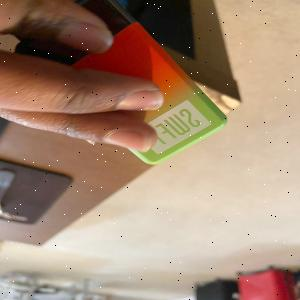Swift-E-Ciggirate: (11, 0, 227, 167)
